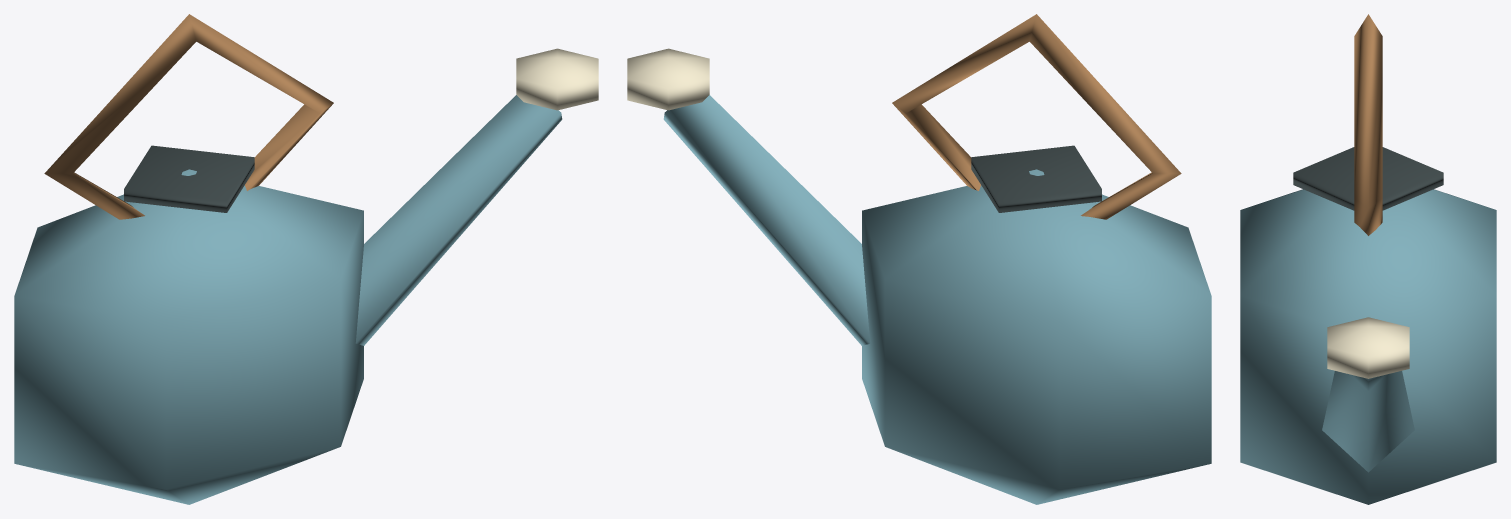
The model's file is quest_watering_can_low.glb.
3 views of the same model, side by side, from view 1: azimuth 30°, elevation 25°; view 2: azimuth 150°, elevation 25°; view 3: azimuth 270°, elevation 25° (orthographic).
Bounding box in the file's own units: 0.4919 × 0.395 × 0.1875.
